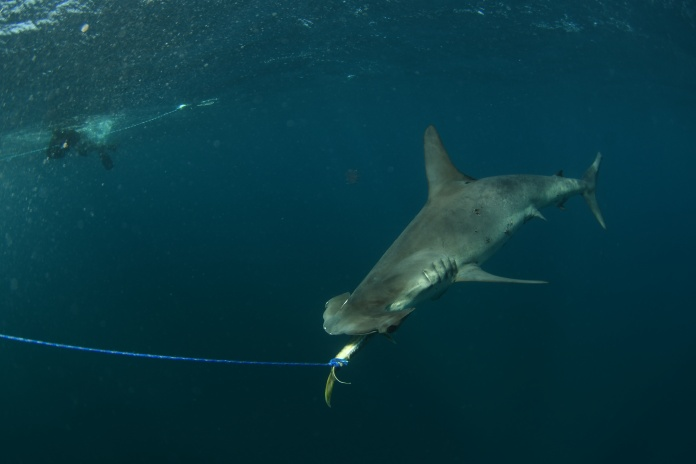Hammer: (287, 113, 625, 353)
